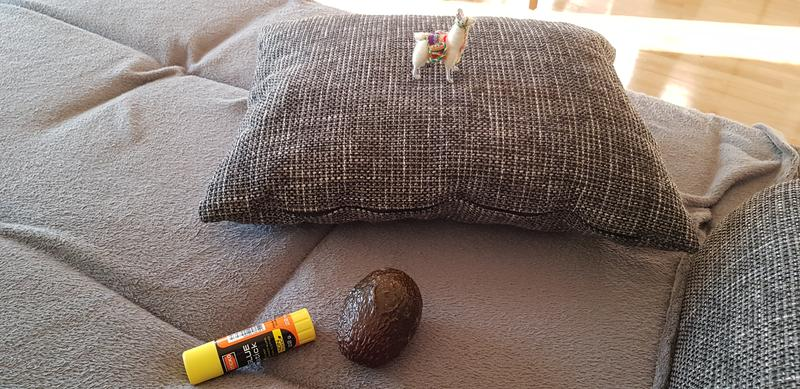Avocado: (332, 262, 426, 373)
Glue-Stick: (180, 304, 324, 388)
Horse-Toy: (408, 9, 477, 95)
